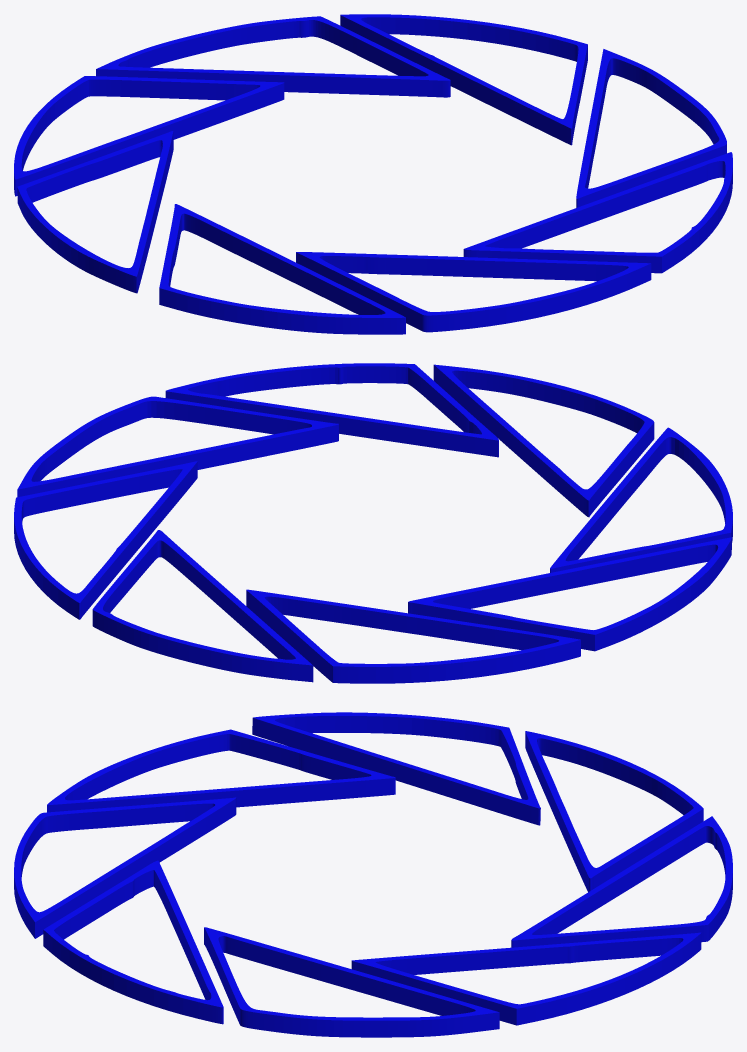
The model's file is Aperture_Science3DP.fbx.
3 views of the same model, one above another, from view 1: azimuth 30°, elevation 25°; view 2: azimuth 150°, elevation 25°; view 3: azimuth 270°, elevation 25° (orthographic).
Parts seen in each view (by area): view 1: Curve.004; view 2: Curve.004; view 3: Curve.004.
Part boxes in pixels (box(x1,y1,x2,y2)): Curve.004: box(14, 14, 732, 334); Curve.004: box(14, 363, 732, 683); Curve.004: box(14, 712, 732, 1037).
Bounding box in the file's own units: 390 × 13.69 × 389.
